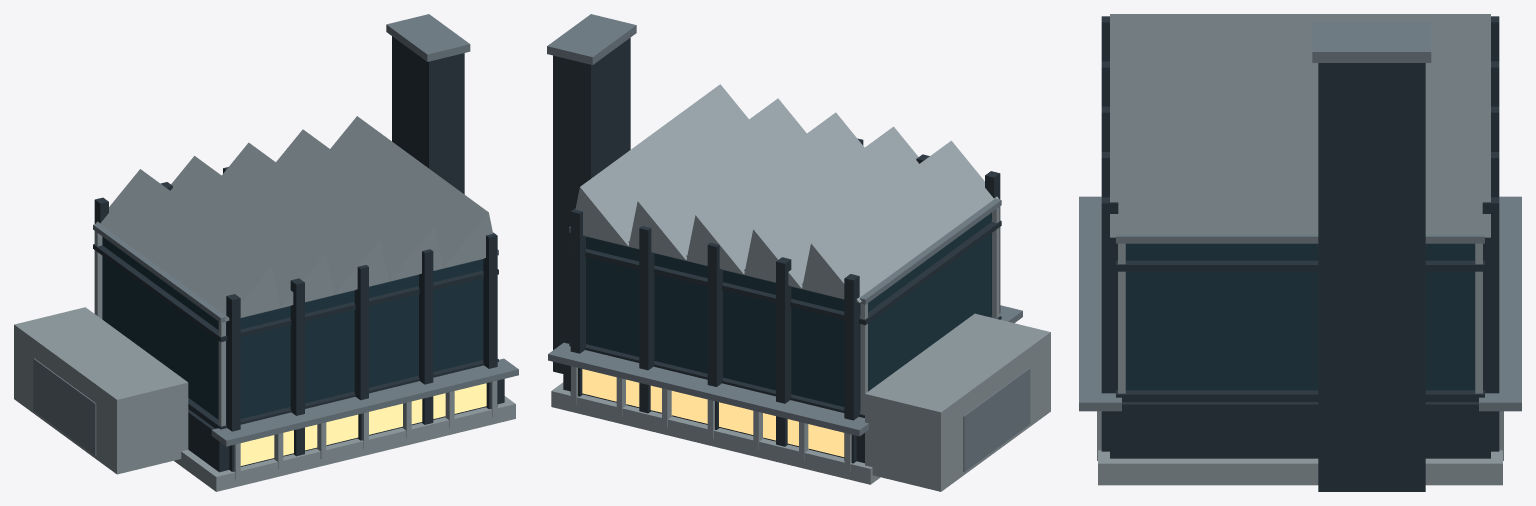
The model's file is vrx_city_works_b_LOD1.fbx.
3 views of the same model, side by side, from view 1: azimuth 30°, elevation 25°; view 2: azimuth 150°, elevation 25°; view 3: azimuth 270°, elevation 25° (orthographic). The views are drawn at different scales.
Parts seen in each view (by area): view 1: vrx_city_works_b_LOD1; view 2: vrx_city_works_b_LOD1; view 3: vrx_city_works_b_LOD1.
Boxes of the visible parts, box(x1,y1,x2,y2) form: vrx_city_works_b_LOD1: box(14, 14, 518, 491); vrx_city_works_b_LOD1: box(547, 14, 1050, 491); vrx_city_works_b_LOD1: box(1079, 14, 1521, 491).
Size of the model in its own units: 55.17 by 42 by 37.2.
